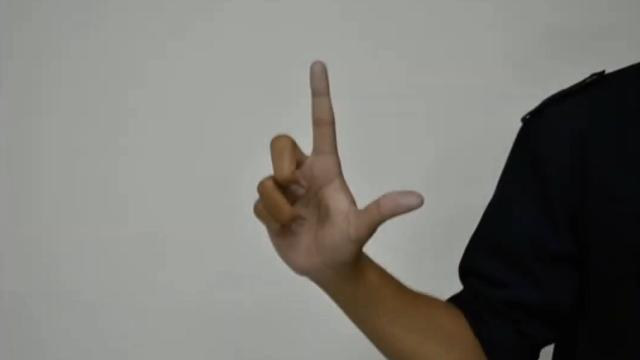L: (250, 57, 430, 279)
